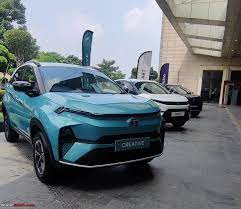Tata Nexon: (1, 60, 168, 187)
